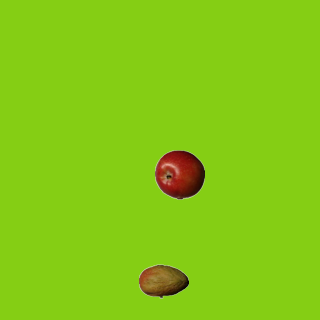Apple Braeburn: (154, 149, 204, 199)
Papaya: (138, 256, 188, 306)
